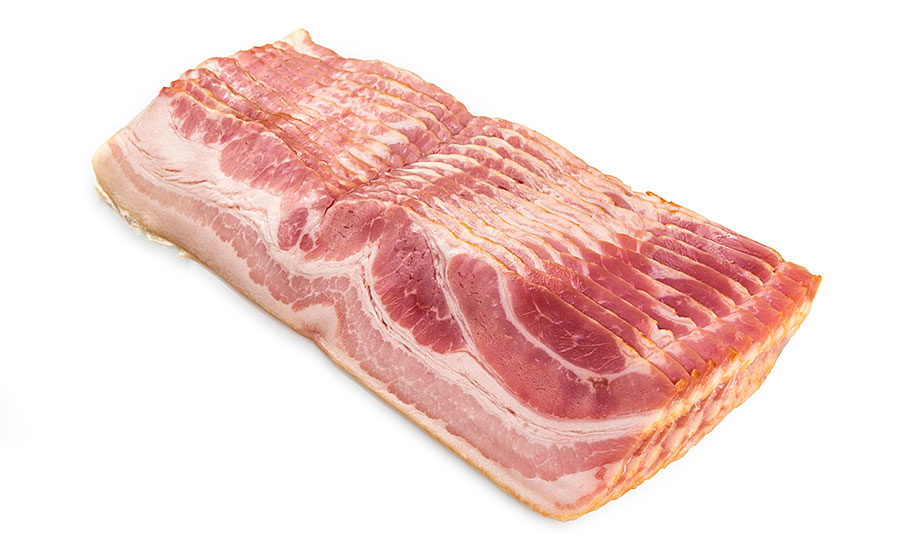bacon: (74, 16, 842, 515)
